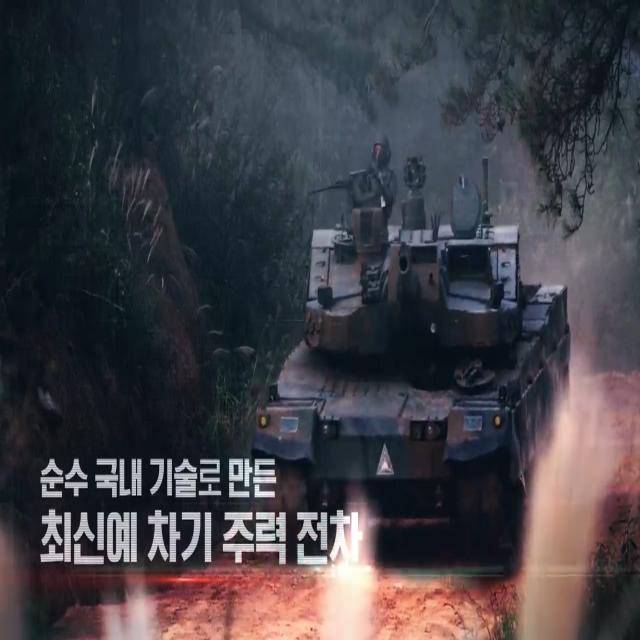korea tank: (250, 134, 572, 569)
